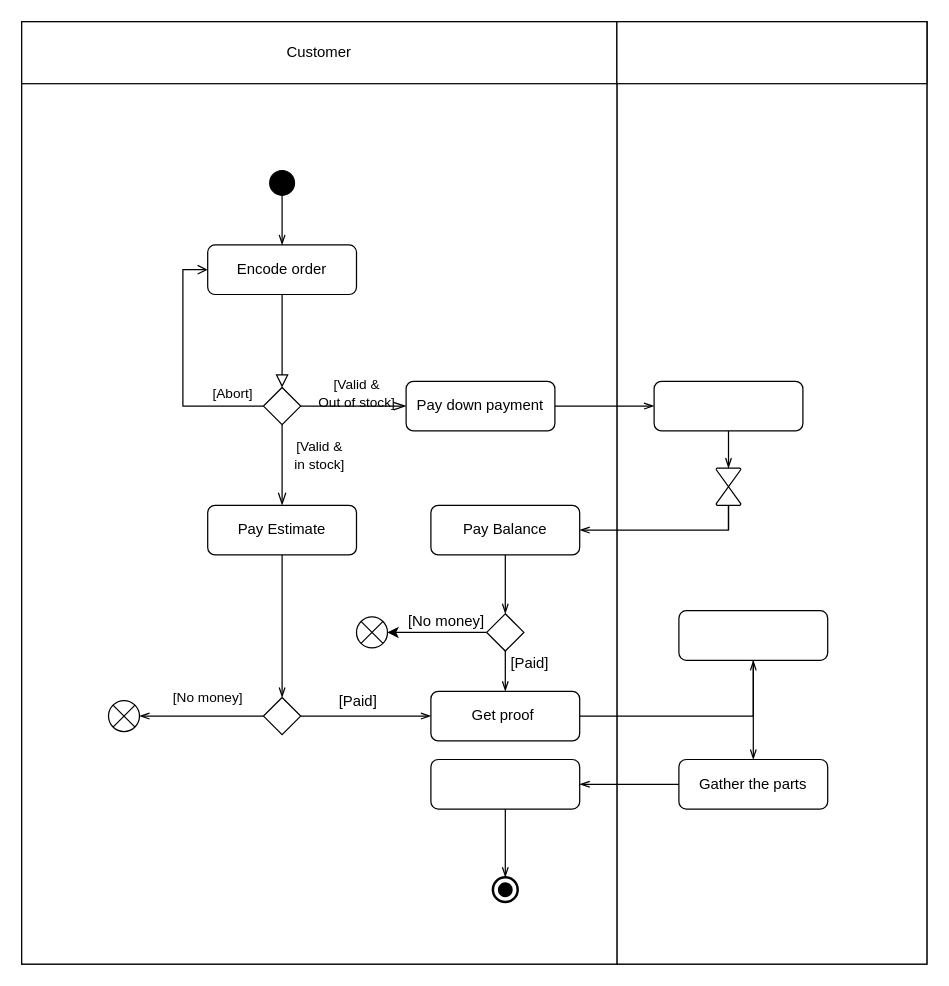
This 949x986 diagram has some shape labels left out. The shapes that lost their labels are listed below. From the top down, each one's centre as x and y in pixels, then its label:
At point 771,52: "Storekeeper".
At point 728,405: "Order parts".
At point 753,634: "Get order details".
At point 505,783: "Leave with his order".
